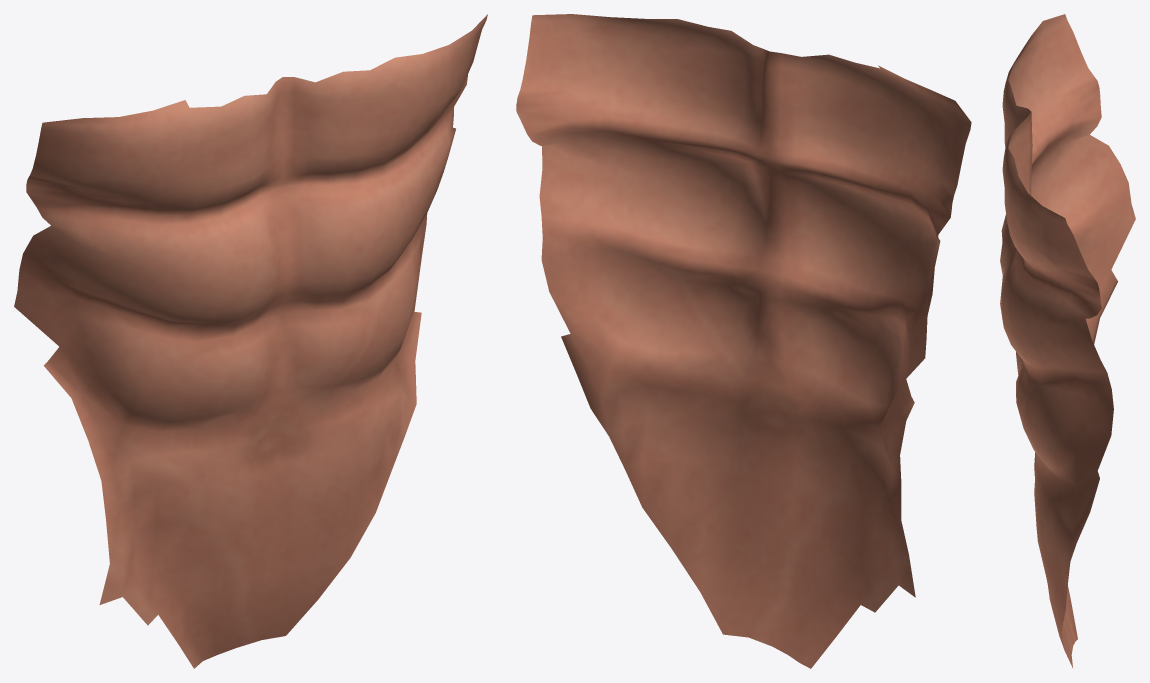
File: abs.glb
The picture shows the model from 3 angles, left to right: view 1: azimuth 30°, elevation 25°; view 2: azimuth 150°, elevation 25°; view 3: azimuth 270°, elevation 25°; orthographic projection. The views are drawn at different scales.
Visible parts, largest first — view 1: abs; view 2: abs; view 3: abs.
Boxes of the visible parts, bbox=[...] form: abs: bbox=[14, 14, 487, 668]; abs: bbox=[516, 14, 971, 668]; abs: bbox=[1000, 14, 1135, 667].
Size of the model in its own units: 0.0232 by 0.0299 by 0.00654.
1 material, 1 textured.
